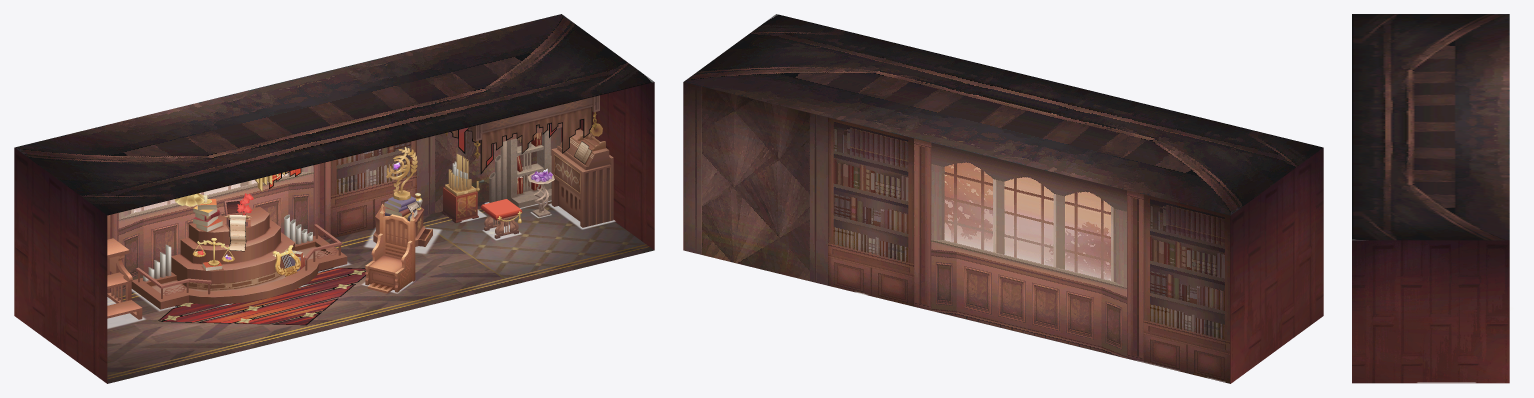
Rendered from magicAcademy.glb.
3 renders of one model, left to right at view 1: azimuth 30°, elevation 25°; view 2: azimuth 150°, elevation 25°; view 3: azimuth 270°, elevation 25°, orthographic. The views are drawn at different scales.
Parts seen in each view (by area): view 1: ROOM_room, ROOM_floor, furni_magicAcademy_orchestraPit_01, furni_magicAcademy_carpet_01, furni_magicAcademy_audio_01, furni_magicAcademy_cabinet_02.001, furni_magicAcademy_chair_01, furni_magicAcademy_ceilingLights_04, furni_magicAcademy_table_01, furni_magicAcademy_stair_01, furni_magicAcademy_ceilingLights_03.001, ROOM_RDoor (+5 smaller); view 2: ROOM_room, ROOM_LDoor; view 3: ROOM_room, ROOM_RDoor, shadow_01.002.
Part boxes in pixels (x1,y1,x2,y2): ROOM_room: [14, 14, 654, 383]; ROOM_floor: [107, 200, 654, 383]; furni_magicAcademy_orchestraPit_01: [131, 195, 347, 309]; furni_magicAcademy_carpet_01: [158, 267, 365, 325]; furni_magicAcademy_audio_01: [551, 123, 613, 227]; furni_magicAcademy_cabinet_02.001: [489, 130, 551, 207]; furni_magicAcademy_chair_01: [365, 204, 415, 293]; furni_magicAcademy_ceilingLights_04: [450, 107, 592, 174]; furni_magicAcademy_table_01: [373, 146, 432, 246]; furni_magicAcademy_stair_01: [107, 215, 142, 319]; furni_magicAcademy_ceilingLights_03.001: [445, 95, 599, 158]; ROOM_RDoor: [621, 150, 640, 239]; ROOM_room: [683, 14, 1323, 383]; ROOM_LDoor: [1290, 249, 1309, 339]; ROOM_room: [1352, 14, 1509, 383]; ROOM_RDoor: [1375, 318, 1407, 383]; shadow_01.002: [1509, 203, 1510, 282].
Bounding box in the file's own units: 7.53 × 2.2 × 2.34.
Materials: 8 (8 with a texture image).
